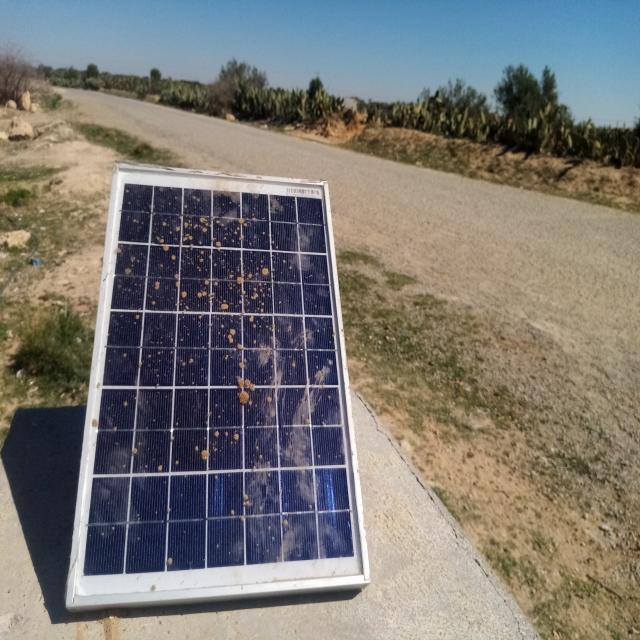faulty: (69, 166, 368, 607)
